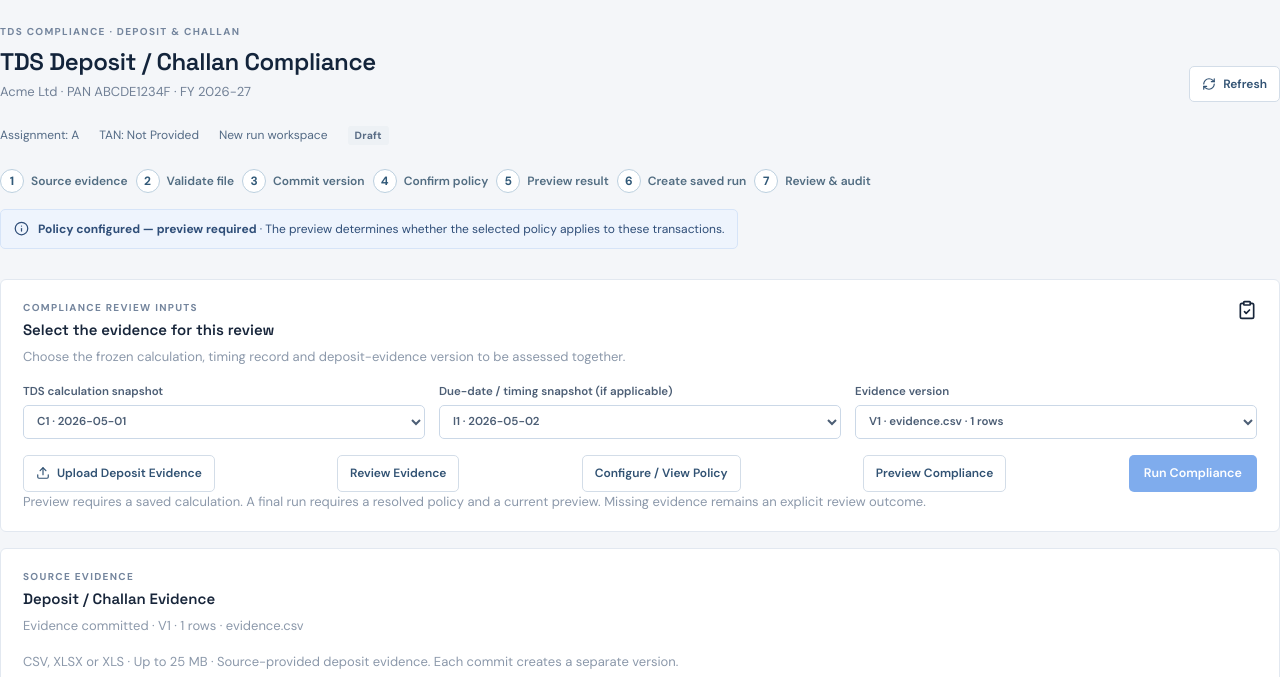
Test: preview uses exact selected persisted inputs and renders counts without creating a run
This screenshot has width=1280, height=677.
Click the button "Preview Compliance".
click(935, 473)  # box [863,455,1006,492]
(page scrolled)
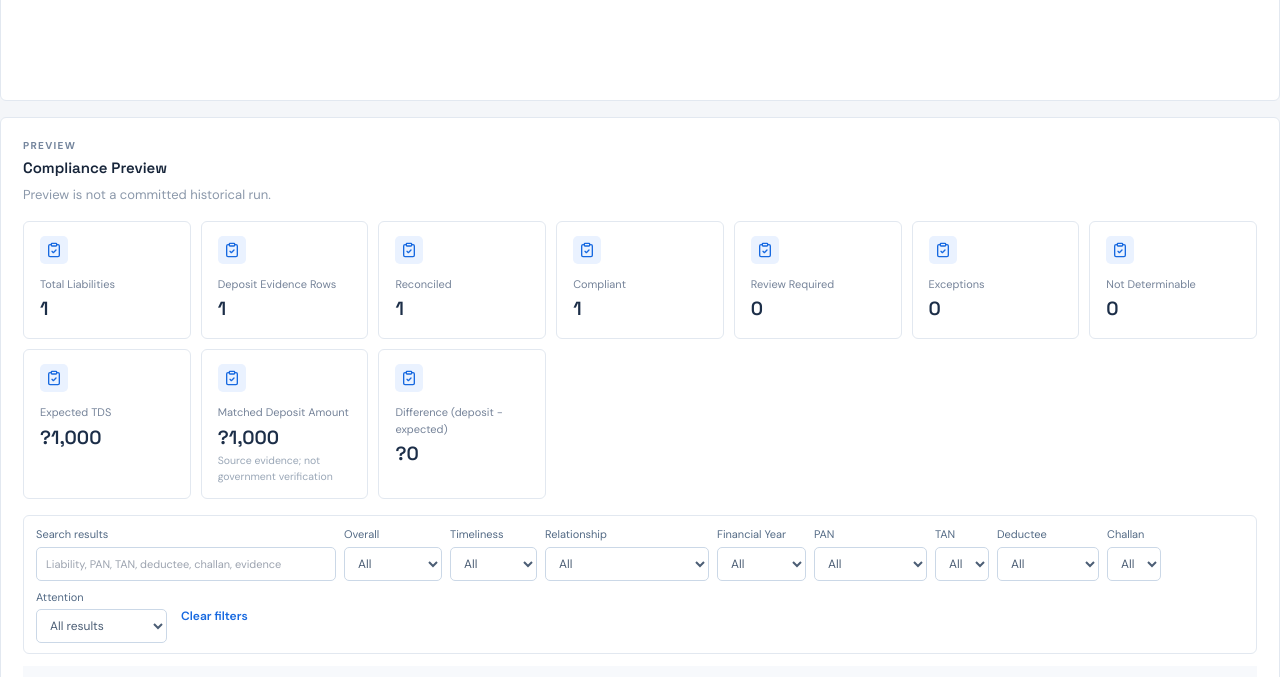
Expected: the element with test id "phase5-summary" is shown, [23,221,1257,499]
